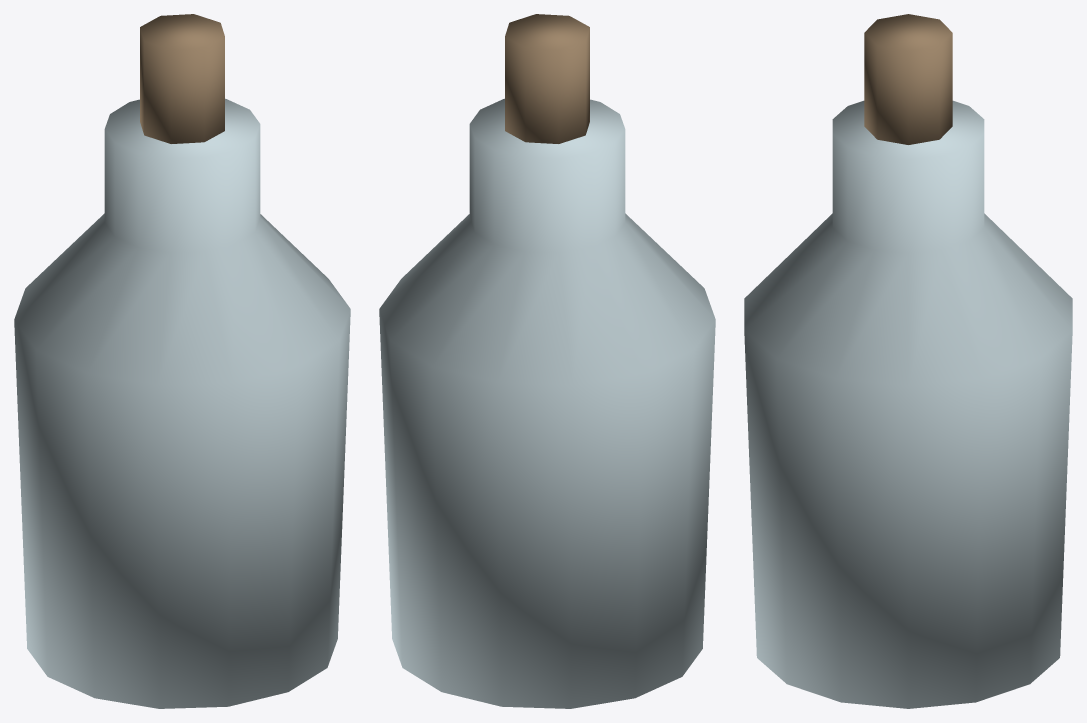
File: potion_hex_purple.glb
3 views of the same model, side by side, from view 1: azimuth 30°, elevation 25°; view 2: azimuth 150°, elevation 25°; view 3: azimuth 270°, elevation 25° (orthographic).
Parts seen in each view (by area): view 1: GD_potion_hex_purple__m0, GD_potion_hex_purple__m2; view 2: GD_potion_hex_purple__m0, GD_potion_hex_purple__m2; view 3: GD_potion_hex_purple__m0, GD_potion_hex_purple__m2.
Boxes of the visible parts, x1,y1,x2,y2 form: GD_potion_hex_purple__m0: (14,98,350,708); GD_potion_hex_purple__m2: (140,14,224,143); GD_potion_hex_purple__m0: (379,98,715,708); GD_potion_hex_purple__m2: (505,14,589,143); GD_potion_hex_purple__m0: (744,100,1072,708); GD_potion_hex_purple__m2: (864,14,952,144).
Size of the model in its own units: 0.13 by 0.26 by 0.1267.
